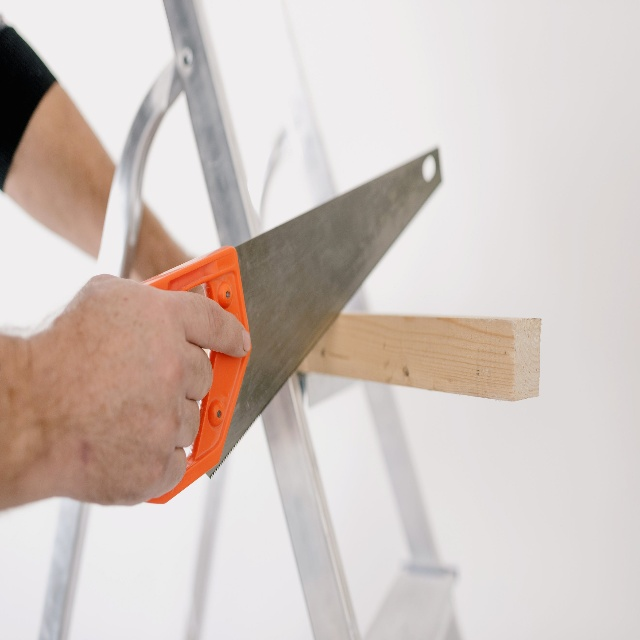Sin_guantes: (32, 270, 251, 512)
